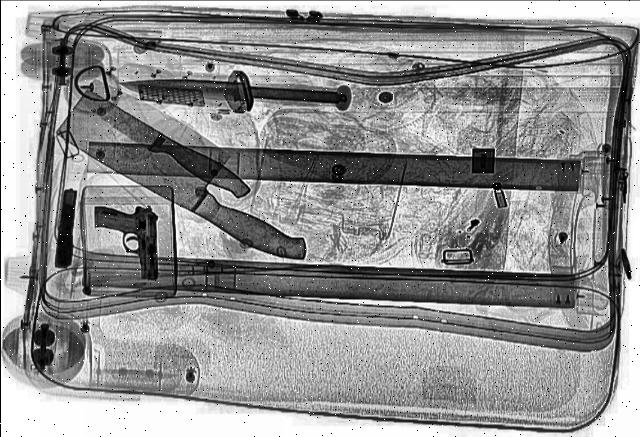Gun: (92, 204, 164, 284), (49, 190, 81, 268)
Knife: (31, 76, 356, 272), (52, 74, 260, 202), (118, 76, 344, 106)
